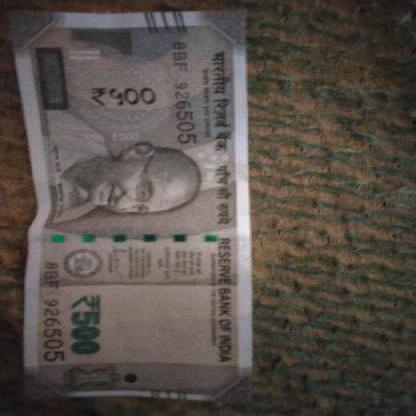New500Front: (7, 10, 244, 398)
